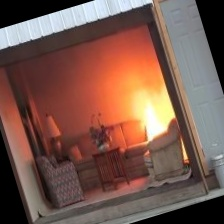fire: (124, 77, 174, 139)
